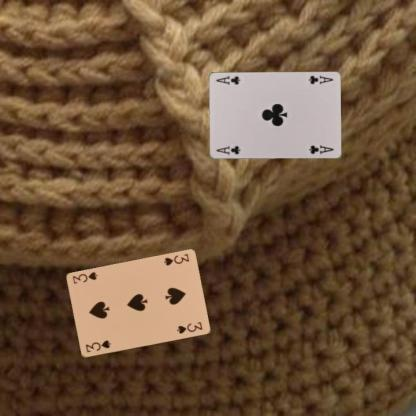3s: (82, 338, 112, 354), (161, 251, 190, 267)
Ac: (214, 143, 241, 156), (306, 73, 334, 85)
